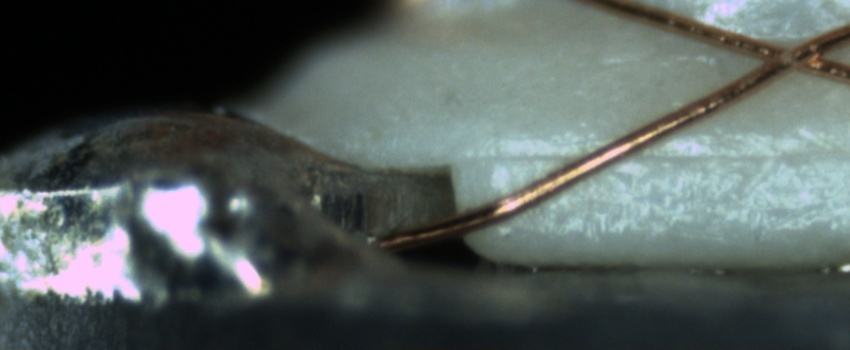CL: (743, 29, 842, 83)
DL: (467, 127, 849, 189)
